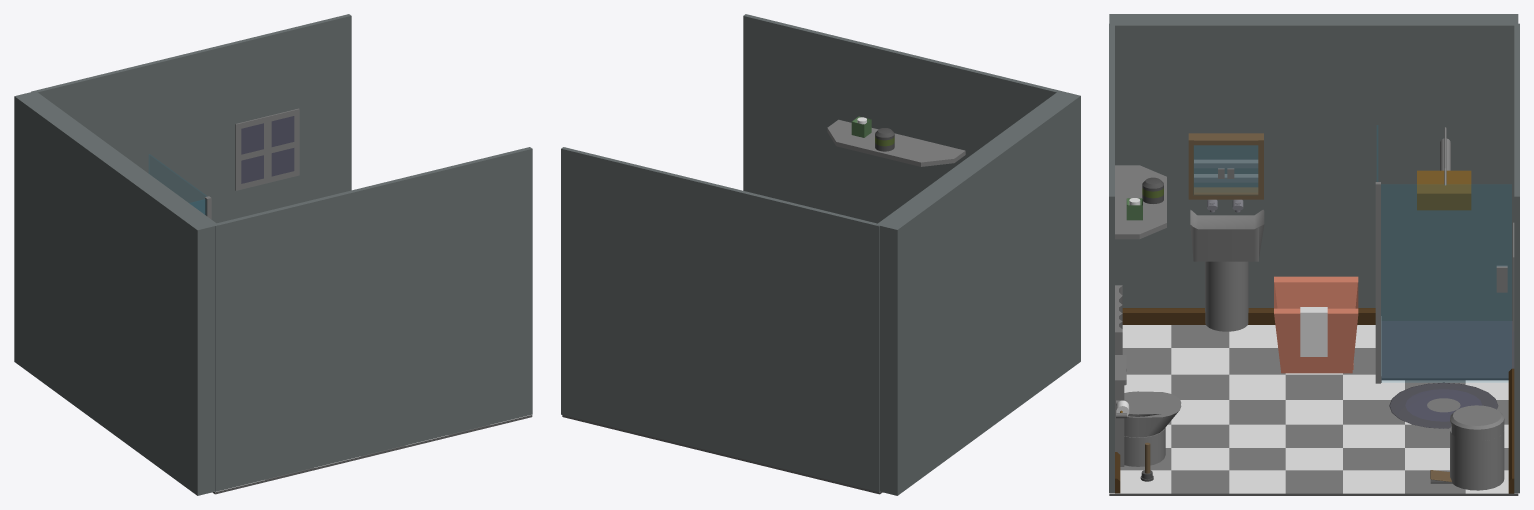
The model's file is bathRoomBG.fbx.
The picture shows the model from 3 angles, left to right: view 1: azimuth 30°, elevation 25°; view 2: azimuth 150°, elevation 25°; view 3: azimuth 270°, elevation 25°; orthographic projection. The views are drawn at different scales.
Visible parts, largest first — view 1: wall1, wall3, wall2, WINDOW, baseBathroomFloor; view 2: wall2, wall3, wall1, extraShelf, baseBathroomFloor; view 3: wall3, baseBathroomFloor, showerFloor, laundryBasketOuter, Sink, showerMat2, sinkSupport, wall2, wall1, extraShelf, bin, showerHead (+15 smaller).
Part boxes in pixels (left/top/right/bottom): wall1: left=215, top=147, right=532, bottom=491; wall3: left=14, top=91, right=218, bottom=495; wall2: left=31, top=14, right=351, bottom=223; WINDOW: left=235, top=108, right=299, bottom=190; baseBathroomFloor: left=212, top=414, right=532, bottom=494; wall2: left=561, top=147, right=879, bottom=491; wall3: left=876, top=90, right=1080, bottom=495; wall1: left=743, top=14, right=1058, bottom=223; extraShelf: left=827, top=119, right=965, bottom=166; baseBathroomFloor: left=562, top=415, right=882, bottom=494; wall3: left=1109, top=14, right=1518, bottom=320; baseBathroomFloor: left=1109, top=325, right=1518, bottom=495; showerFloor: left=1381, top=321, right=1514, bottom=380; laundryBasketOuter: left=1274, top=276, right=1358, bottom=373; Sink: left=1190, top=209, right=1264, bottom=261; showerMat2: left=1389, top=382, right=1498, bottom=428; sinkSupport: left=1205, top=261, right=1248, bottom=331; wall2: left=1514, top=23, right=1519, bottom=493; wall1: left=1109, top=24, right=1114, bottom=492; extraShelf: left=1115, top=165, right=1166, bottom=239; bin: left=1450, top=426, right=1504, bottom=490; showerHead: left=1417, top=170, right=1471, bottom=210.
Size of the model in its own units: 79.26 by 60.63 by 75.33.
